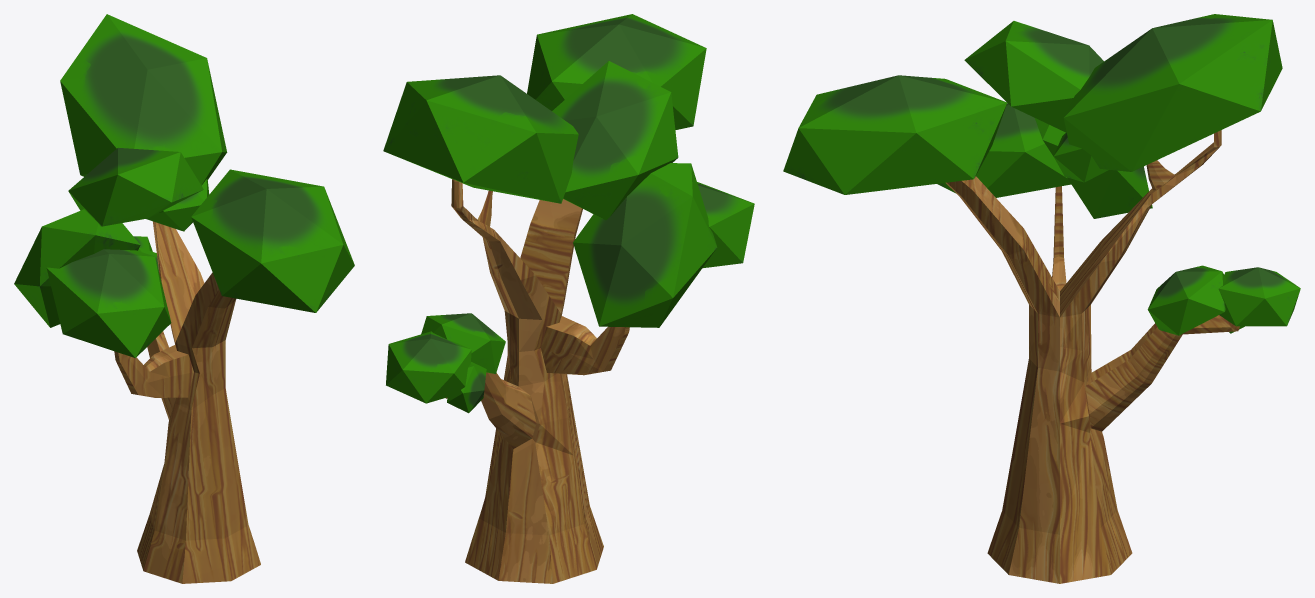
The model's file is Live_Tree3.fbx.
3 renders of one model, left to right at view 1: azimuth 30°, elevation 25°; view 2: azimuth 150°, elevation 25°; view 3: azimuth 270°, elevation 25°, orthographic. The views are drawn at different scales.
Parts seen in each view (by area): view 1: Live_Tree3; view 2: Live_Tree3; view 3: Live_Tree3.
Part boxes in pixels (x1,y1,x2,y2): Live_Tree3: (14,14,354,583); Live_Tree3: (383,14,754,583); Live_Tree3: (783,14,1300,583).
Size of the model in its own units: 4.99 by 8.9 by 10.15.
